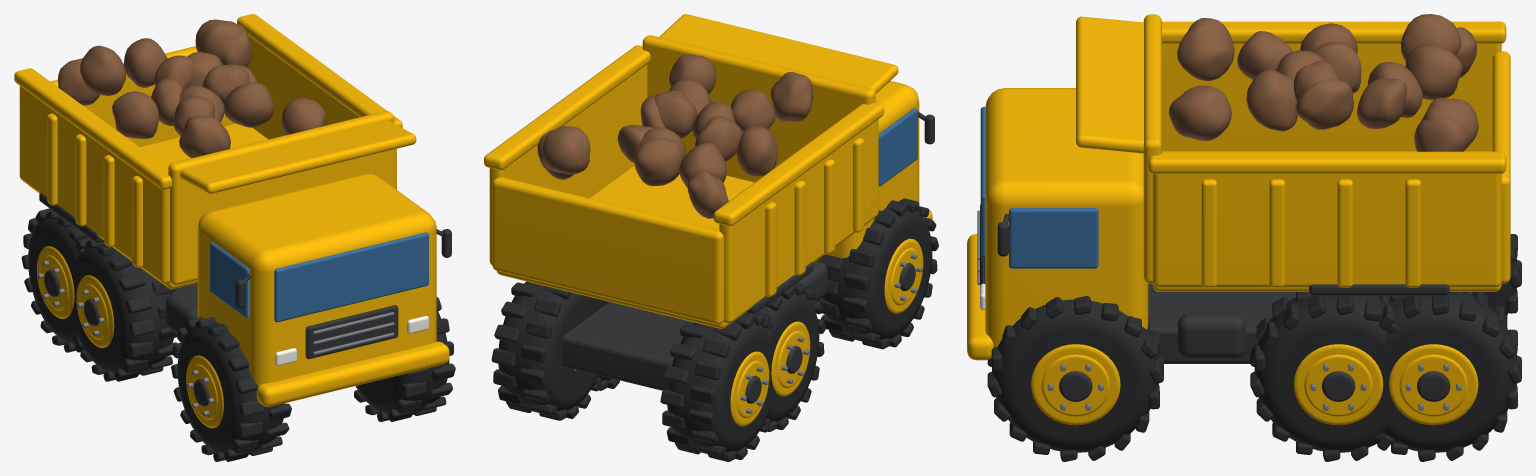
The model's file is DumpTruck.glb.
3 views of the same model, side by side, from view 1: azimuth 30°, elevation 25°; view 2: azimuth 150°, elevation 25°; view 3: azimuth 270°, elevation 25° (orthographic). The views are drawn at different scales.
Parts seen in each view (by area): view 1: DumpTruck_Bed_Yellow, DumpTruck_DumpTruck_Root_Yellow, DumpTruck_Bed_Rock, DumpTruck_DumpTruck_Root_Glass, DumpTruck_Wheel_WheelR1_Rubber, DumpTruck_Wheel_WheelR0_Rubber, DumpTruck_DumpTruck_Root_DarkGrey, DumpTruck_Wheel_WheelL0_Rubber, DumpTruck_Wheel_WheelR2_Rubber, DumpTruck_Wheel_WheelR1_Yellow, DumpTruck_Wheel_WheelR2_Yellow, DumpTruck_Wheel_WheelR0_Yellow (+2 smaller); view 2: DumpTruck_Bed_Yellow, DumpTruck_Bed_Rock, DumpTruck_Wheel_WheelR2_Rubber, DumpTruck_Wheel_WheelL2_Rubber, DumpTruck_Wheel_WheelR0_Rubber, DumpTruck_DumpTruck_Root_DarkGrey, DumpTruck_Wheel_WheelR1_Rubber, DumpTruck_DumpTruck_Root_Yellow, DumpTruck_DumpTruck_Root_Glass, DumpTruck_Wheel_WheelR2_Yellow, DumpTruck_Wheel_WheelR1_Yellow, DumpTruck_Wheel_WheelR0_Yellow; view 3: DumpTruck_Bed_Yellow, DumpTruck_DumpTruck_Root_Yellow, DumpTruck_Bed_Rock, DumpTruck_Wheel_WheelL0_Rubber, DumpTruck_Wheel_WheelL1_Rubber, DumpTruck_Wheel_WheelL2_Rubber, DumpTruck_DumpTruck_Root_DarkGrey, DumpTruck_DumpTruck_Root_Glass, DumpTruck_Wheel_WheelL2_Yellow, DumpTruck_Wheel_WheelL0_Yellow, DumpTruck_Wheel_WheelL1_Yellow, DumpTruck_Wheel_WheelR2_Rubber (+3 smaller).
Part boxes in pixels (box(x1,y1,x2,y2)): DumpTruck_Bed_Yellow: box(14, 14, 416, 289); DumpTruck_DumpTruck_Root_Yellow: box(197, 173, 449, 406); DumpTruck_Bed_Rock: box(58, 19, 326, 158); DumpTruck_DumpTruck_Root_Glass: box(210, 232, 428, 322); DumpTruck_Wheel_WheelR1_Rubber: box(72, 237, 177, 381); DumpTruck_Wheel_WheelR0_Rubber: box(171, 317, 291, 461); DumpTruck_DumpTruck_Root_DarkGrey: box(39, 192, 451, 359); DumpTruck_Wheel_WheelL0_Rubber: box(354, 297, 455, 421); DumpTruck_Wheel_WheelR2_Rubber: box(21, 208, 88, 352); DumpTruck_Wheel_WheelR1_Yellow: box(76, 275, 114, 347); DumpTruck_Wheel_WheelR2_Yellow: box(37, 246, 74, 318); DumpTruck_Wheel_WheelR0_Yellow: box(186, 355, 223, 428); DumpTruck_Bed_Yellow: box(484, 14, 898, 328); DumpTruck_Bed_Rock: box(537, 54, 813, 218); DumpTruck_Wheel_WheelR2_Rubber: box(660, 312, 773, 461); DumpTruck_Wheel_WheelL2_Rubber: box(491, 281, 601, 420); DumpTruck_Wheel_WheelR0_Rubber: box(817, 198, 938, 349); DumpTruck_DumpTruck_Root_DarkGrey: box(562, 111, 934, 390); DumpTruck_Wheel_WheelR1_Rubber: box(756, 282, 825, 431); DumpTruck_DumpTruck_Root_Yellow: box(817, 81, 932, 260); DumpTruck_DumpTruck_Root_Glass: box(878, 108, 917, 186); DumpTruck_Wheel_WheelR2_Yellow: box(730, 351, 769, 426); DumpTruck_Wheel_WheelR1_Yellow: box(771, 321, 810, 396); DumpTruck_Wheel_WheelR0_Yellow: box(884, 238, 923, 313); DumpTruck_Bed_Yellow: box(1076, 14, 1510, 291); DumpTruck_DumpTruck_Root_Yellow: box(967, 88, 1148, 360); DumpTruck_Bed_Rock: box(1168, 14, 1478, 151); DumpTruck_Wheel_WheelL0_Rubber: box(987, 296, 1163, 461); DumpTruck_Wheel_WheelL1_Rubber: box(1250, 292, 1398, 461); DumpTruck_Wheel_WheelL2_Rubber: box(1373, 292, 1521, 461); DumpTruck_DumpTruck_Root_DarkGrey: box(980, 204, 1472, 363); DumpTruck_DumpTruck_Root_Glass: box(980, 106, 1098, 268); DumpTruck_Wheel_WheelL2_Yellow: box(1389, 344, 1478, 425); DumpTruck_Wheel_WheelL0_Yellow: box(1031, 344, 1120, 425); DumpTruck_Wheel_WheelL1_Yellow: box(1293, 344, 1383, 425); DumpTruck_Wheel_WheelR2_Rubber: box(1484, 234, 1521, 317).
Bounding box in the file's own units: 1.51 × 1.7 × 2.45.
Materials: 6 (6 with a texture image).
